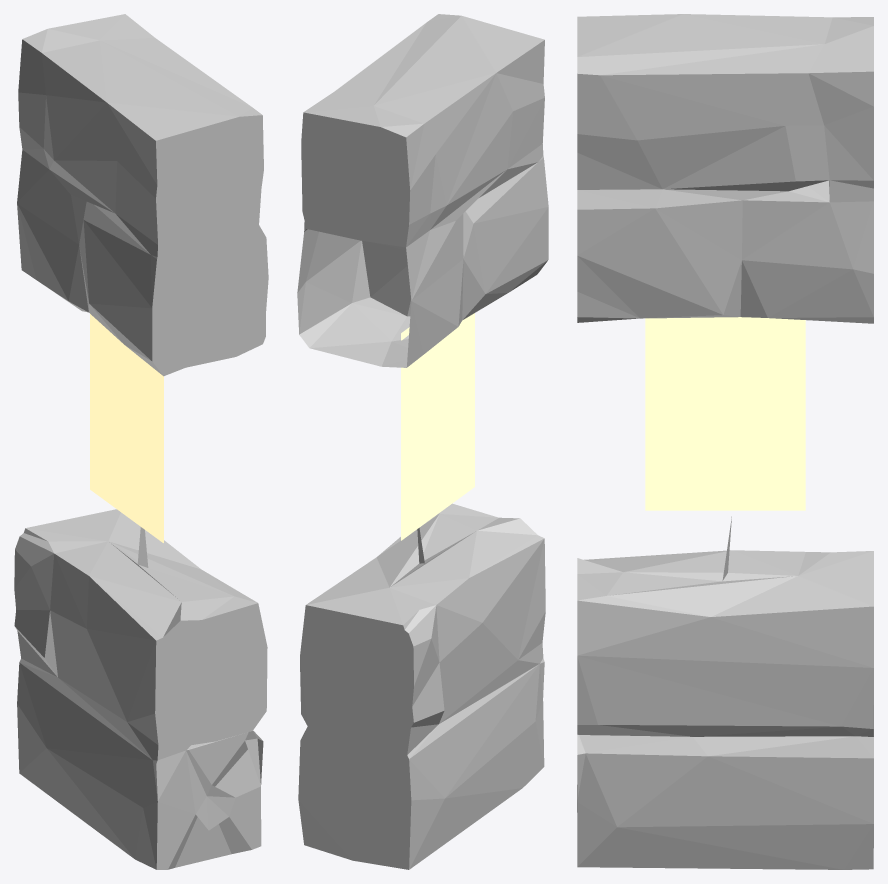
The model's file is wall.stone.window.glb.
3 views of the same model, side by side, from view 1: azimuth 30°, elevation 25°; view 2: azimuth 150°, elevation 25°; view 3: azimuth 270°, elevation 25° (orthographic). The views are drawn at different scales.
Parts seen in each view (by area): view 1: window, glow; view 2: window, glow; view 3: window, glow.
Boxes of the visible parts, left/top/right/bottom form: window: left=14, top=14, right=268, bottom=869; glow: left=90, top=314, right=163, bottom=542; window: left=297, top=14, right=548, bottom=869; glow: left=401, top=313, right=474, bottom=540; window: left=577, top=14, right=873, bottom=869; glow: left=645, top=317, right=805, bottom=510.
Size of the model in its own units: 0.5 by 3 by 1.
